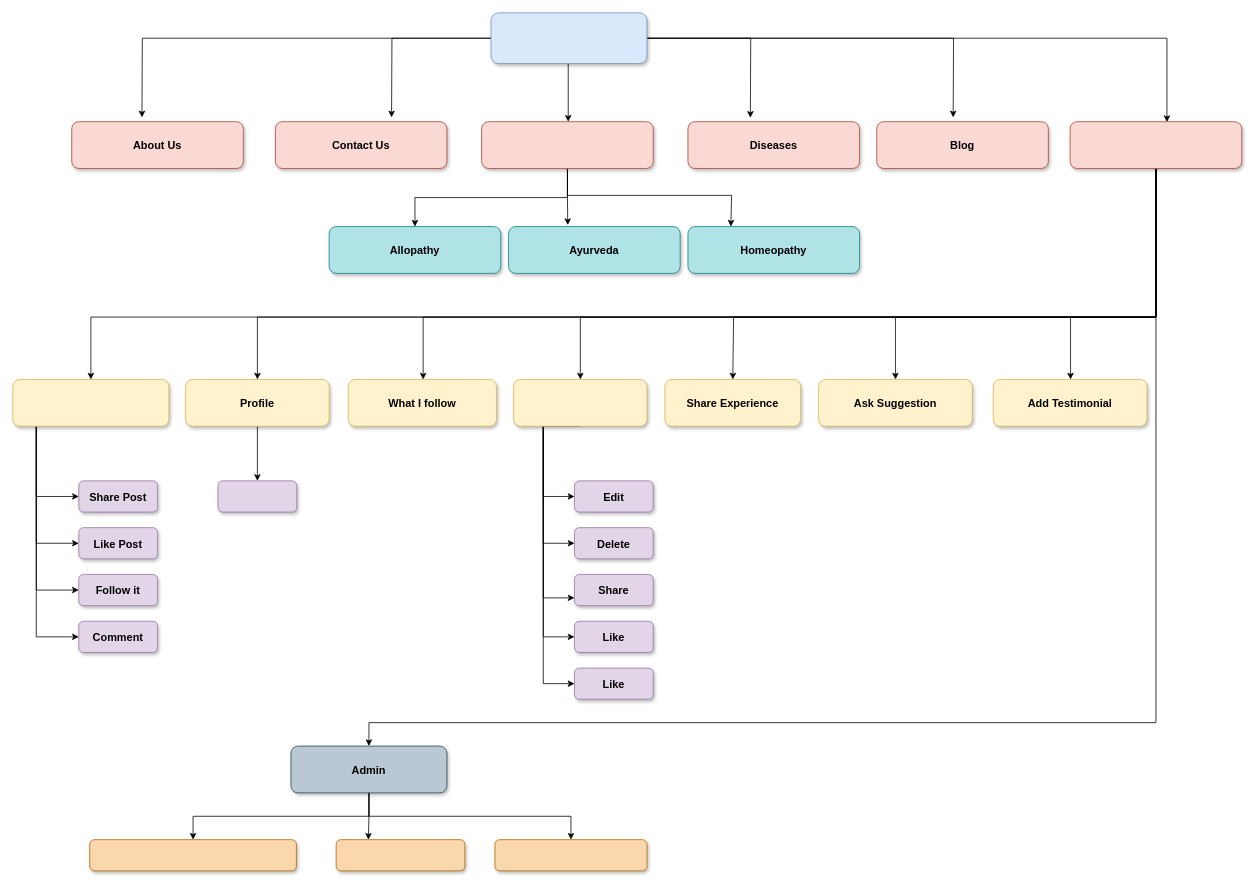
This 1254x884 diagram has some shape labels left out. The shapes that lost their labels are listed below. From the top down, each one's centre as x and y in pixels, then its label:
[569,39]: Home
[568,146]: Pathy
[1156,146]: Login/Signup/Join
[91,404]: Dashboard
[581,404]: What I post
[257,497]: Update
[193,856]: Add Static Content for website
[401,856]: Approve Profile
[571,856]: Approve Post
